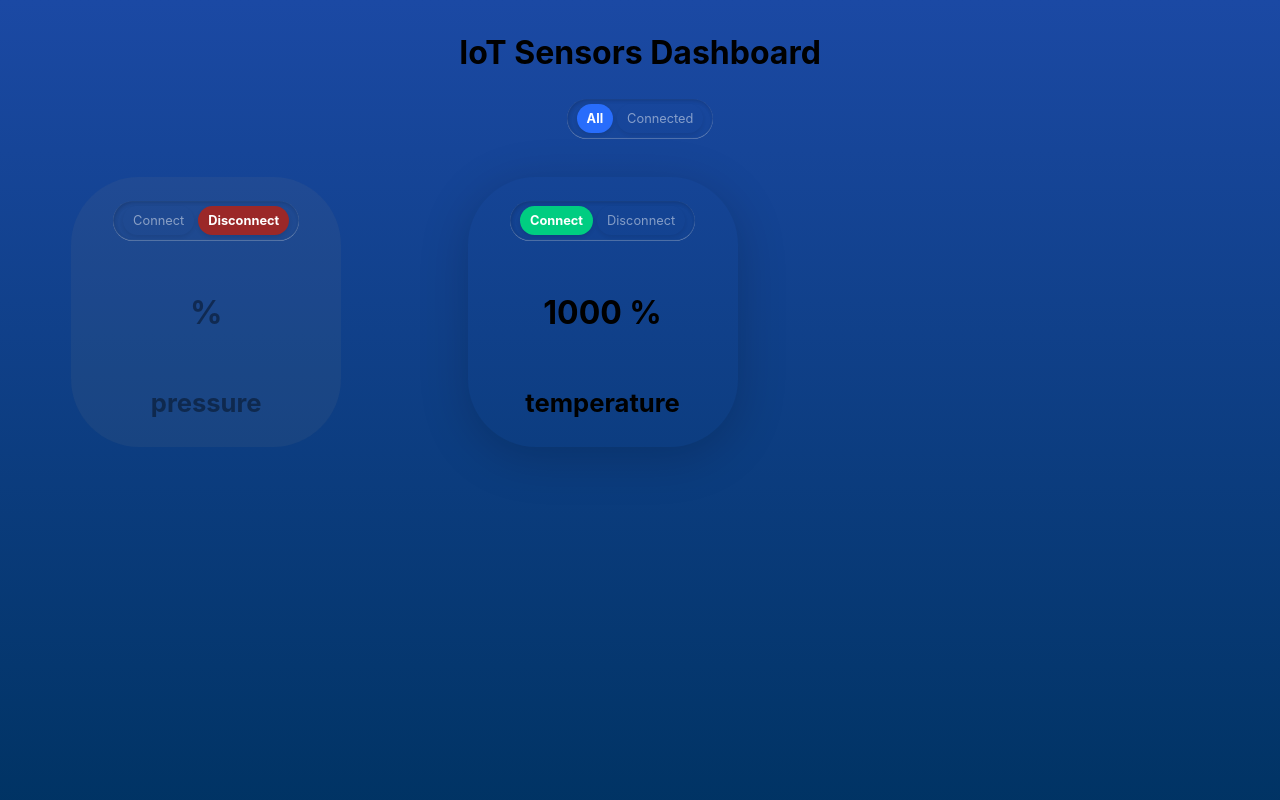
Scenario: Dashboard component › should show just connected sensors when filter is applied
Expected: the heading "pressure" is shown, [151,384,262,423]
Expected: the heading "temperature" is shown, [525,384,680,423]
Click the button "Connected": (660, 119) [617,104,703,134]
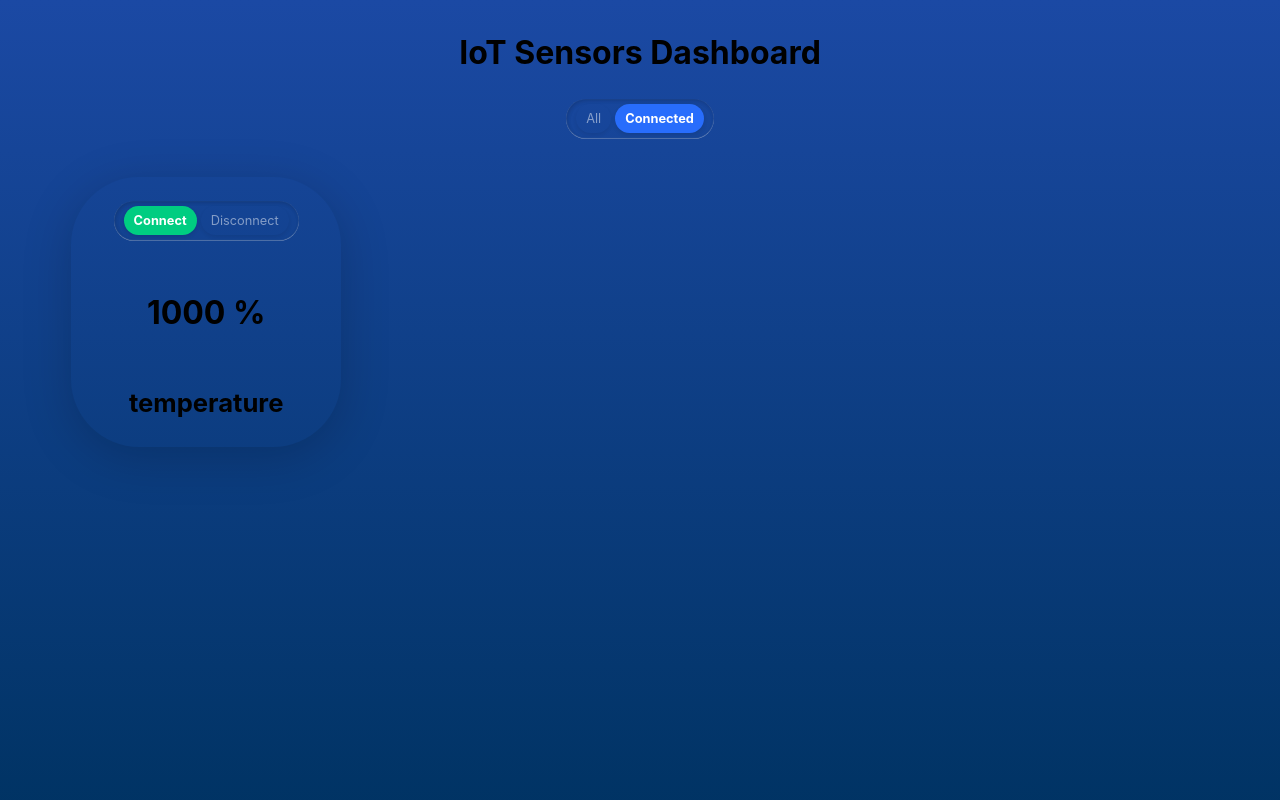
Expected: the heading "temperature" is shown, [129,384,283,423]
Expected: the heading "pressure" is gone
